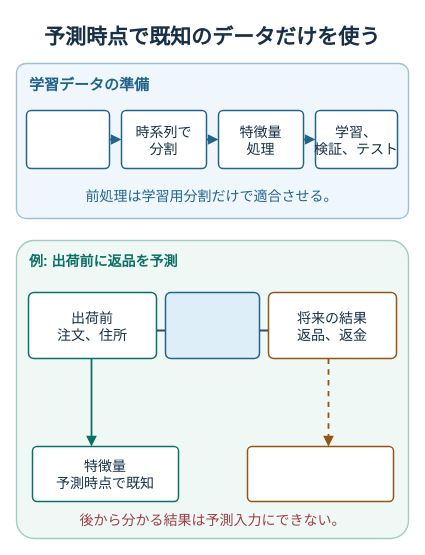
The diagram is 425 pixels wide and 555 high, and some of its shapes have lost their labels. Here are the shapes that lost their labels. From the top down, the box of each, then its label:
(25, 109, 110, 169): 生データ
(164, 291, 260, 359): 予測 時点
(246, 445, 394, 502): 学習ラベル 返品したか
